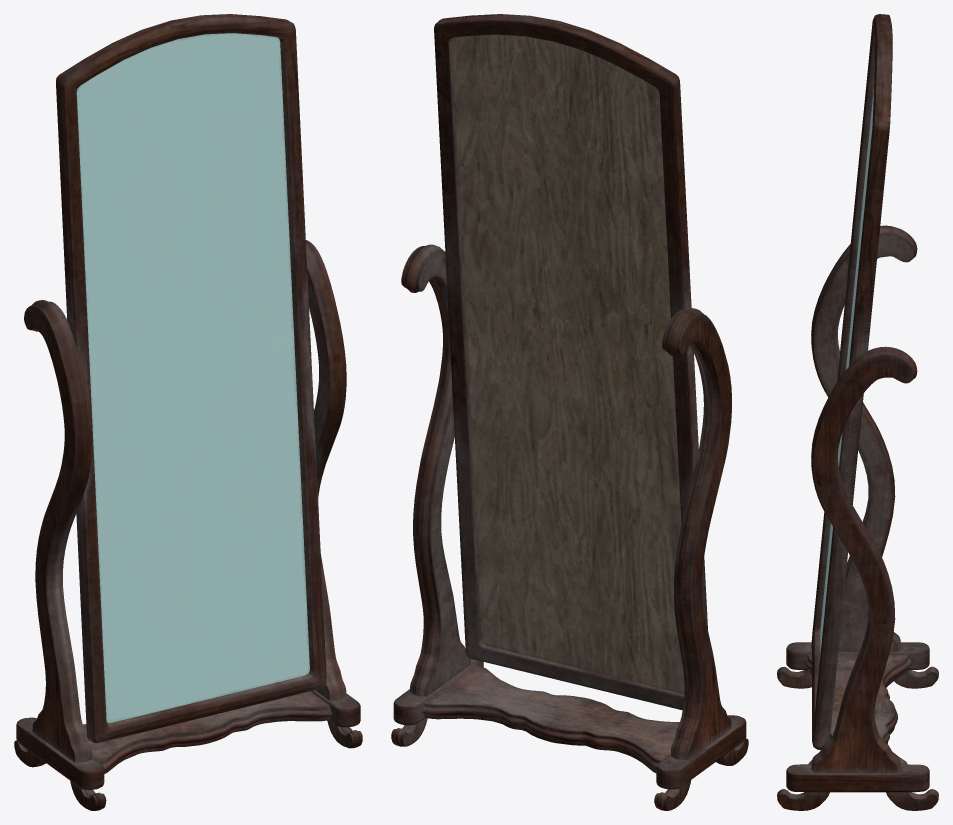
File: espelho.glb
3 renders of one model, left to right at view 1: azimuth 30°, elevation 25°; view 2: azimuth 150°, elevation 25°; view 3: azimuth 270°, elevation 25°, orthographic. The views are drawn at different scales.
Bounding box in the file's own units: 0.7162 × 1.76 × 0.3669.
Materials: 1 (1 with a texture image).
